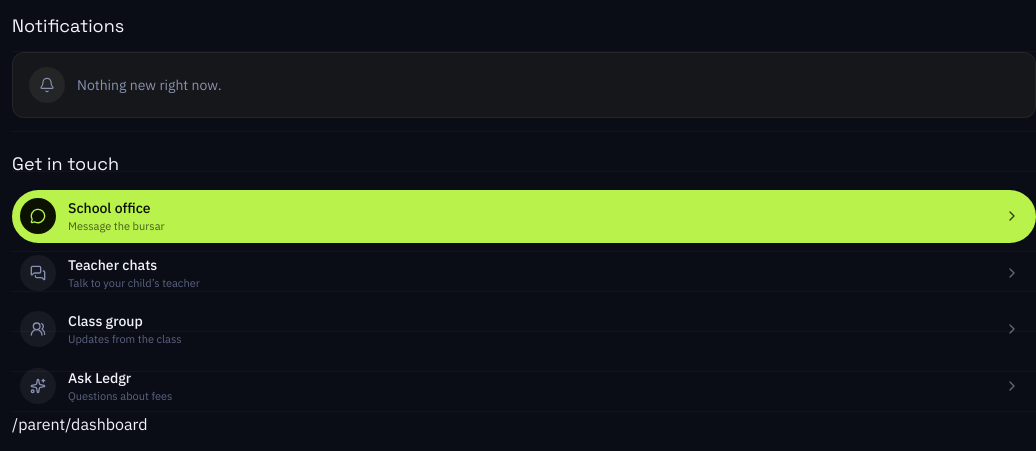
ParentRail "Get in touch" › Class group goes there on the first tap
Click the link "Class group Updates from the class": (38,329) [12,303,1035,356]
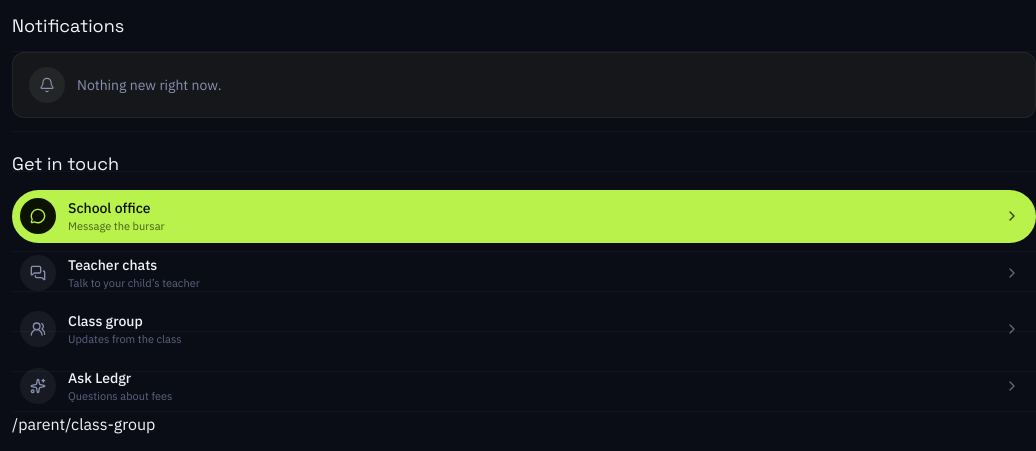
Check: the text with test id "where" reads "/parent/class-group", box [12,414,155,434]
